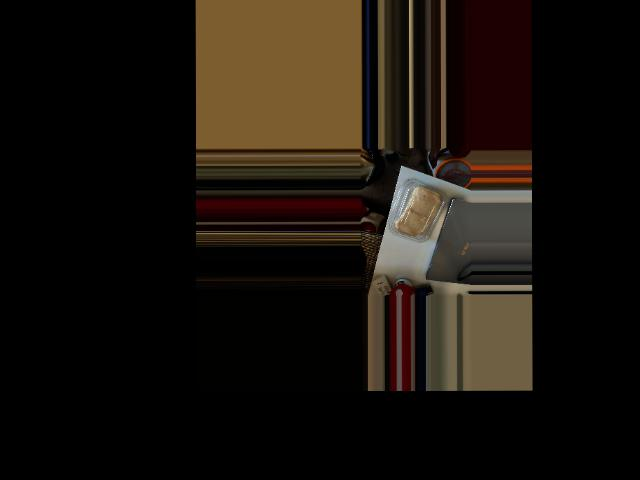cheese: (388, 174, 447, 244)
